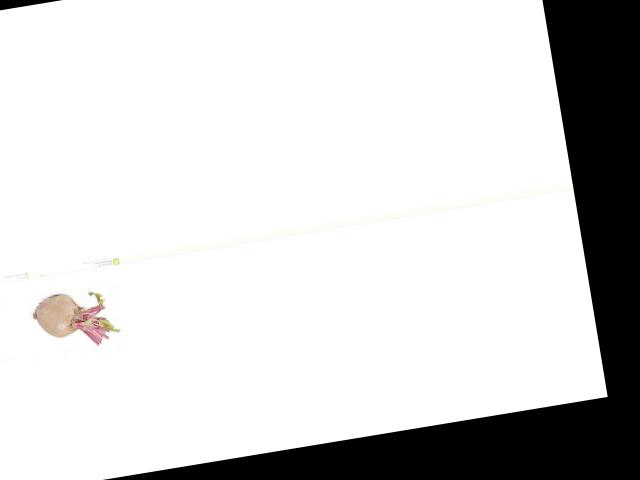beet: (29, 286, 121, 354)
